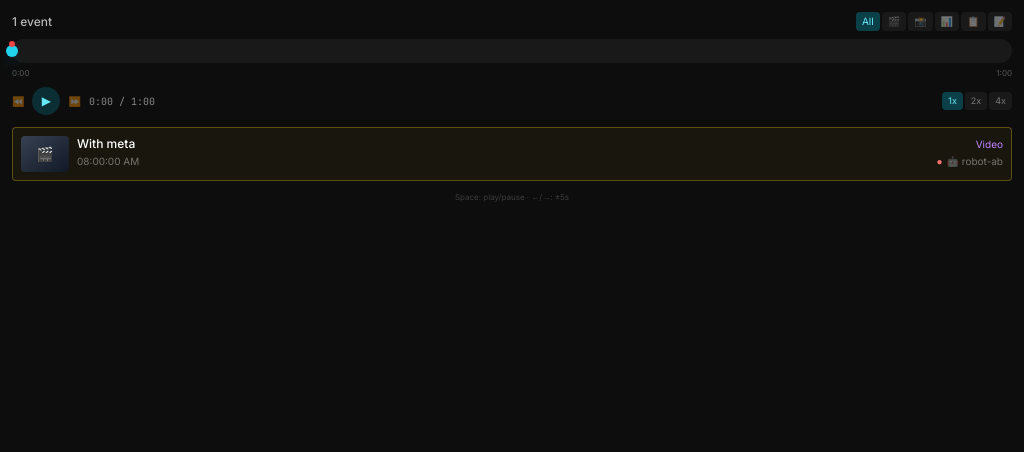
Test: ReplayReviewModule › shows metadata in detail panel
The image size is (1024, 452).
Click the text "With meta": (106, 144) [77, 136, 135, 152]
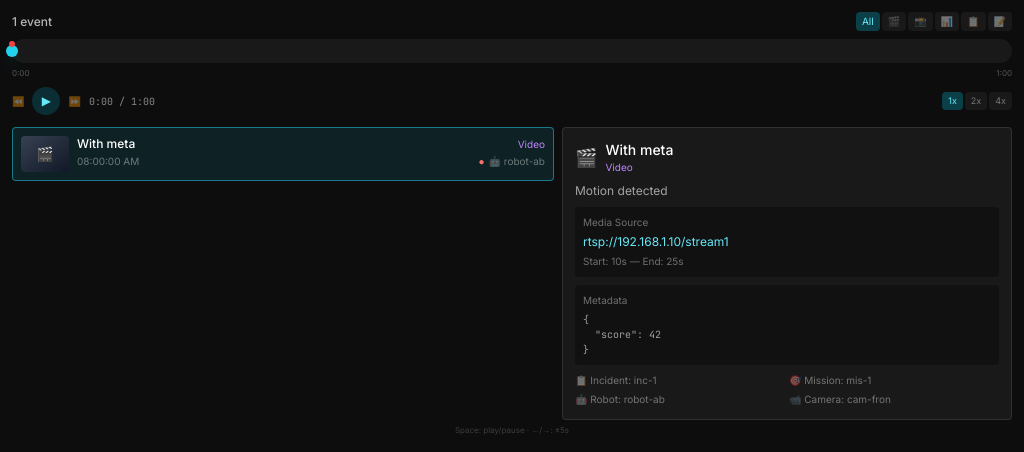
Check: the text "Metadata" is shown, box [583, 294, 628, 306]
